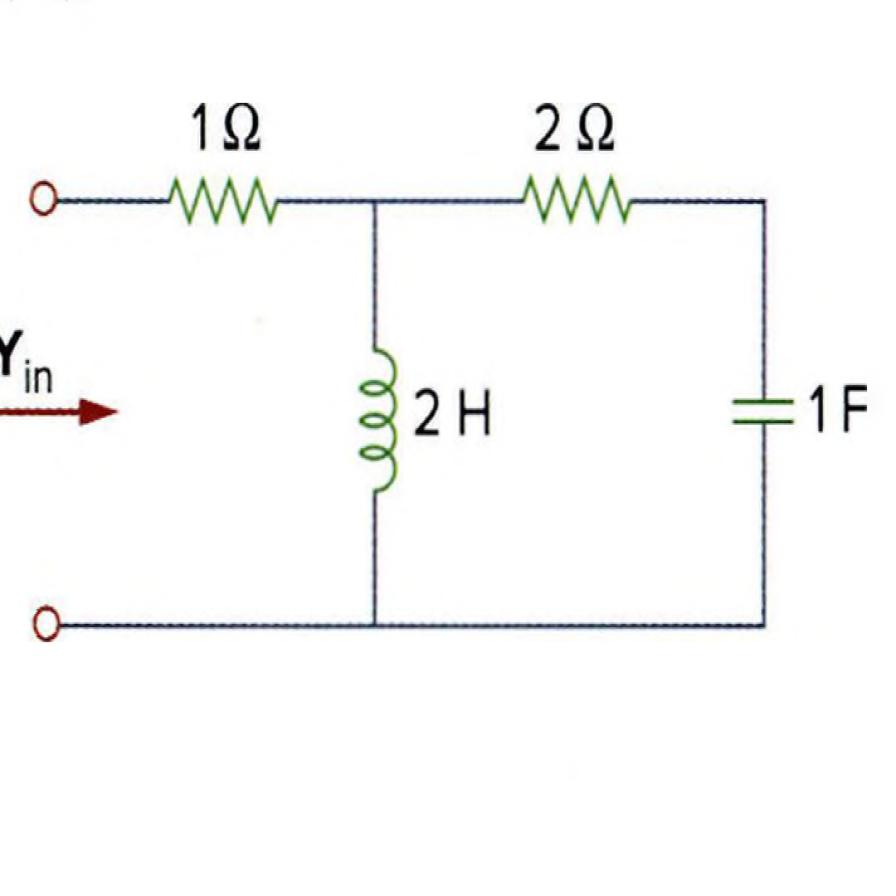C2: (727, 371, 802, 457)
L2: (341, 330, 411, 516)
